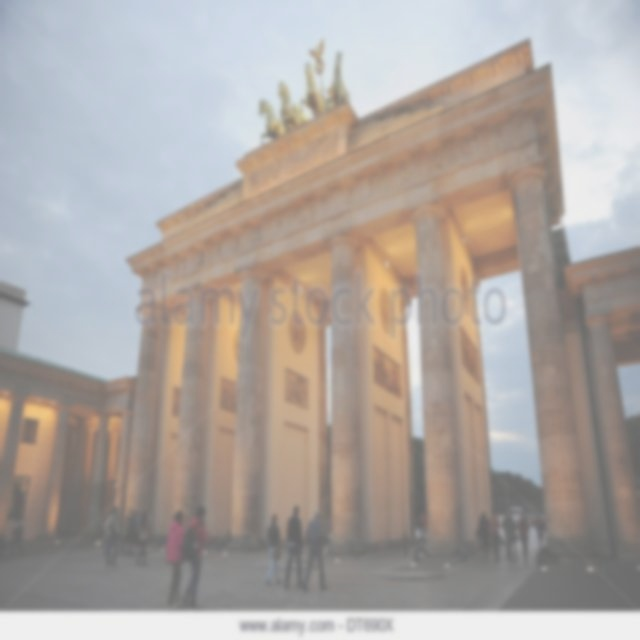pessoa: (178, 502, 210, 612), (299, 508, 330, 594), (162, 506, 186, 612), (281, 504, 304, 592), (264, 511, 283, 587), (103, 505, 122, 570), (499, 506, 519, 567), (135, 509, 152, 567), (7, 512, 26, 561), (516, 509, 531, 567), (8, 478, 26, 526), (488, 508, 502, 564), (121, 506, 134, 560), (475, 511, 490, 554), (127, 509, 139, 558), (533, 511, 545, 551), (419, 510, 430, 546), (117, 504, 124, 556), (415, 514, 423, 546), (0, 525, 6, 564), (540, 511, 548, 538), (524, 510, 531, 536), (146, 509, 151, 541), (108, 504, 115, 516), (495, 506, 500, 518)
